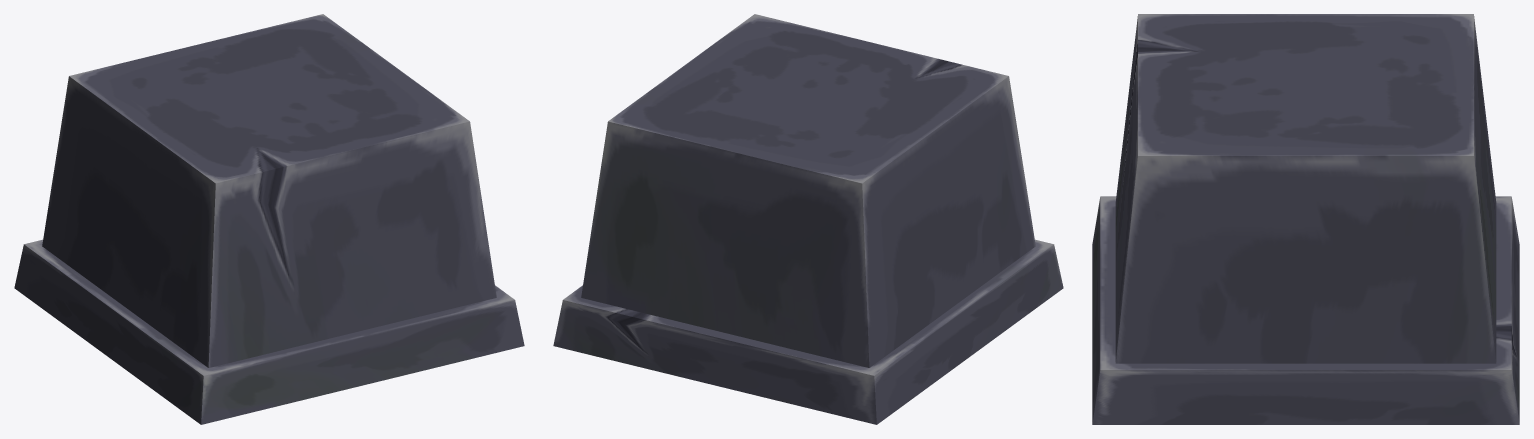
File: MOD_Column_01_cap.fbx
3 renders of one model, left to right at view 1: azimuth 30°, elevation 25°; view 2: azimuth 150°, elevation 25°; view 3: azimuth 270°, elevation 25°, orthographic. The views are drawn at different scales.
Visible parts, largest first — view 1: MOD_Column_01_cap; view 2: MOD_Column_01_cap; view 3: MOD_Column_01_cap.
Boxes of the visible parts, x1,y1,x2,y2 form: MOD_Column_01_cap: (14, 14, 524, 424); MOD_Column_01_cap: (553, 14, 1063, 424); MOD_Column_01_cap: (1092, 14, 1519, 424).
Bounding box in the file's own units: 103 × 66.29 × 103.
